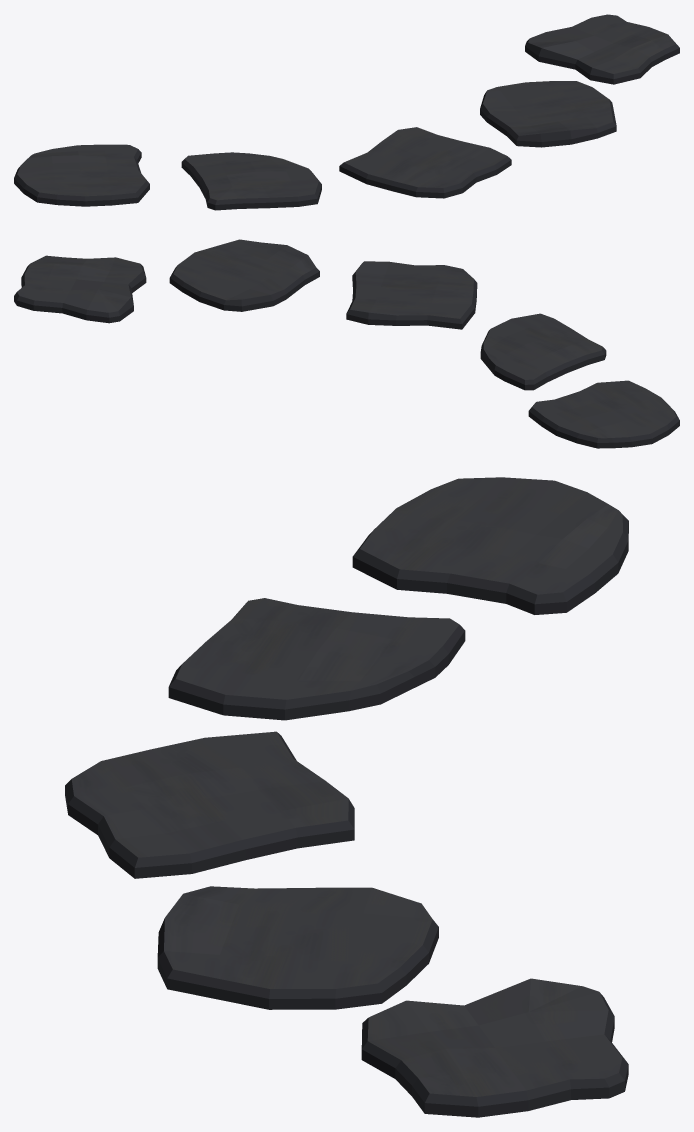
Rendered from stone_0528.fbx.
3 renders of one model, top to bottom at view 1: azimuth 30°, elevation 25°; view 2: azimuth 150°, elevation 25°; view 3: azimuth 270°, elevation 25°, orthographic. The views are drawn at different scales.
Parts seen in each view (by area): view 1: Plane001; view 2: Plane001; view 3: Plane001.
Boxes of the visible parts, x1,y1,x2,y2 form: Plane001: [14, 14, 679, 210]; Plane001: [14, 239, 679, 448]; Plane001: [65, 477, 628, 1117].
Size of the model in its own units: 294 by 5.76 by 112.
Materials: 1 (1 with a texture image).
